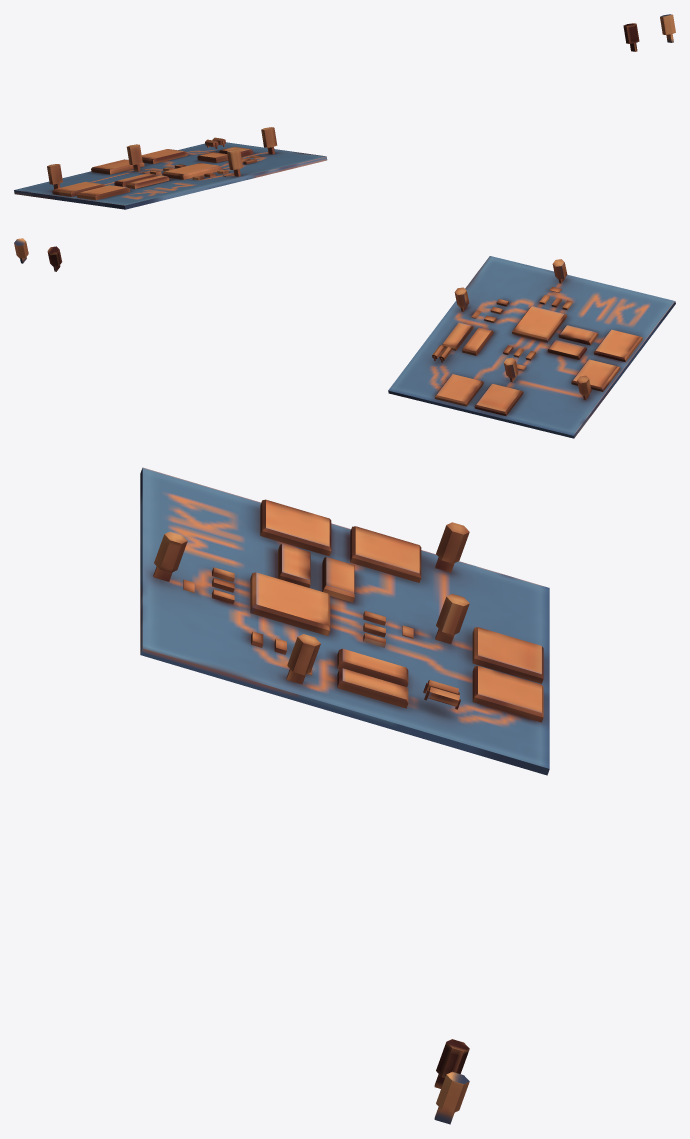
File: Plate.fbx
3 renders of one model, top to bottom at view 1: azimuth 30°, elevation 25°; view 2: azimuth 150°, elevation 25°; view 3: azimuth 270°, elevation 25°, orthographic. The views are drawn at different scales.
Visible parts, largest first — view 1: Plane.009, Plane.010, Plane.011; view 2: Plane.009; view 3: Plane.009, Plane.011, Plane.010.
Part boxes in pixels (x1,y1,x2,y2): Plane.009: (14,127,327,209); Plane.010: (623,23,639,51); Plane.011: (660,14,675,42); Plane.009: (388,256,675,438); Plane.009: (140,467,549,775); Plane.011: (434,1071,469,1124); Plane.010: (434,1039,469,1088).
Size of the model in its own units: 53.37 by 7.29 by 16.29.
